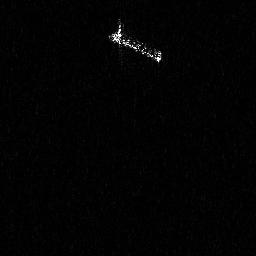ship: (108, 23, 162, 62)
